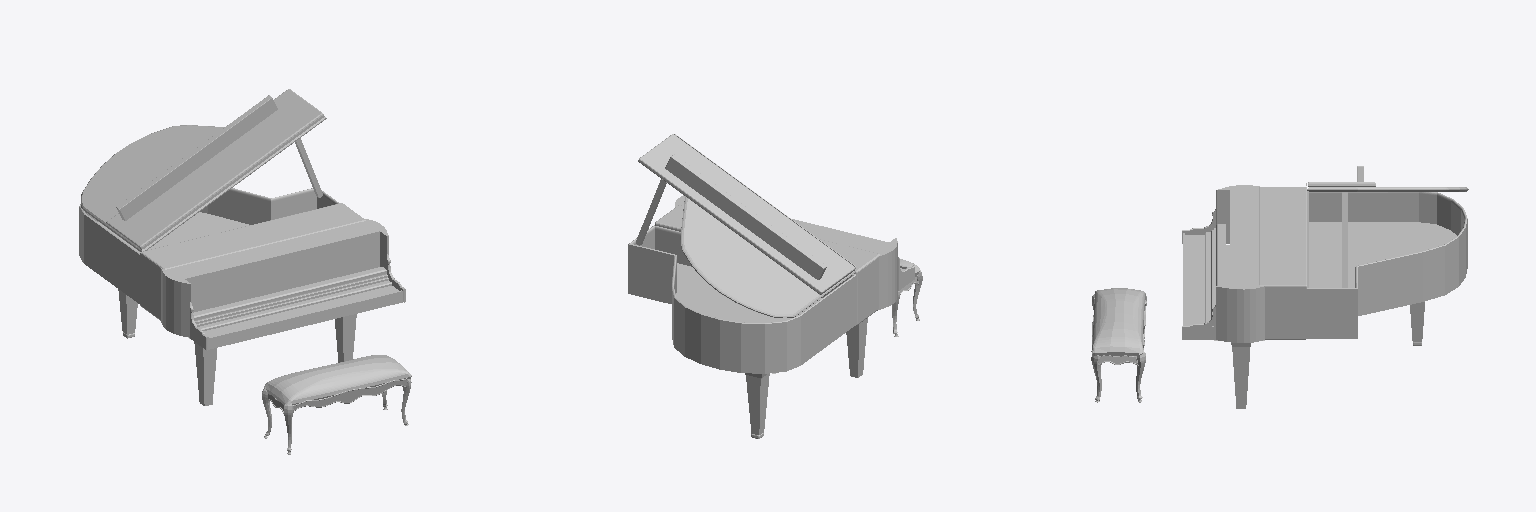
The model's file is piano.obj.
3 renders of one model, left to right at view 1: azimuth 30°, elevation 25°; view 2: azimuth 150°, elevation 25°; view 3: azimuth 270°, elevation 25°, orthographic.
Visible parts, largest first — view 1: FBXASC[number redacted]FBXASC233FBXASC146FBXASC162FBXASC231FBXASC144FBXASC, Object05ff FBXASC[number redacted]FBXASC233FBXASC146FBXASC162FBXASC231FBXA; view 2: FBXASC[number redacted]FBXASC233FBXASC146FBXASC162FBXASC231FBXASC144FBXASC, Object05ff FBXASC[number redacted]FBXASC233FBXASC146FBXASC162FBXASC231FBXA; view 3: FBXASC[number redacted]FBXASC233FBXASC146FBXASC162FBXASC231FBXASC144FBXASC, Object05ff FBXASC[number redacted]FBXASC233FBXASC146FBXASC162FBXASC231FBXA.
Part boxes in pixels (x1,y1,x2,y2): FBXASC[number redacted]FBXASC233FBXASC146FBXASC162FBXASC231FBXASC144FBXASC: (79,89,411,454); Object05ff FBXASC[number redacted]FBXASC233FBXASC146FBXASC162FBXASC231FBXA: (118,289,356,405); FBXASC[number redacted]FBXASC233FBXASC146FBXASC162FBXASC231FBXASC144FBXASC: (628,134,922,373); Object05ff FBXASC[number redacted]FBXASC233FBXASC146FBXASC162FBXASC231FBXA: (745,318,867,438); FBXASC[number redacted]FBXASC233FBXASC146FBXASC162FBXASC231FBXASC144FBXASC: (1091,166,1468,402); Object05ff FBXASC[number redacted]FBXASC233FBXASC146FBXASC162FBXASC231FBXA: (1231,302,1424,408).
Bounding box in the file's own units: 165 × 172 × 252.